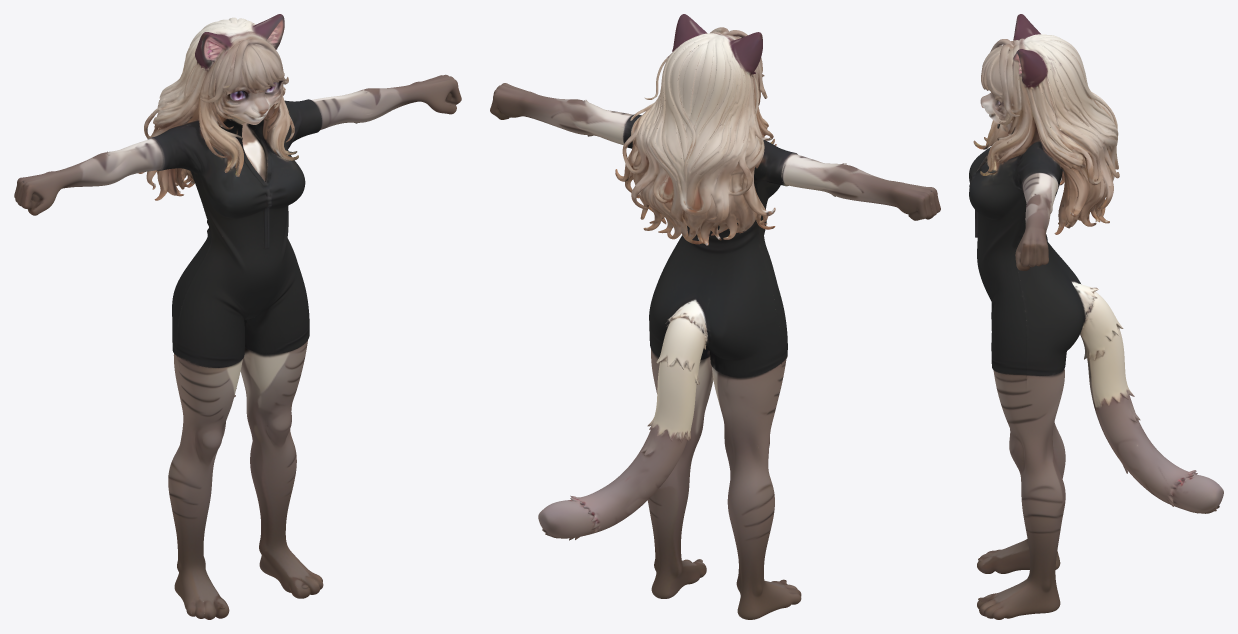
File: CATG.glb
The picture shows the model from 3 angles, left to right: view 1: azimuth 30°, elevation 25°; view 2: azimuth 150°, elevation 25°; view 3: azimuth 270°, elevation 25°; orthographic projection. The views are drawn at different scales.
Parts seen in each view (by area): view 1: model.001; view 2: model.001; view 3: model.001.
Part boxes in pixels (x1=…): model.001: x1=14, y1=14, x2=461, y2=619; model.001: x1=490, y1=14, x2=940, y2=619; model.001: x1=969, y1=14, x2=1223, y2=619.
Bounding box in the file's own units: 0.8985 × 1.12 × 0.4606.
Materials: 1 (1 with a texture image).
